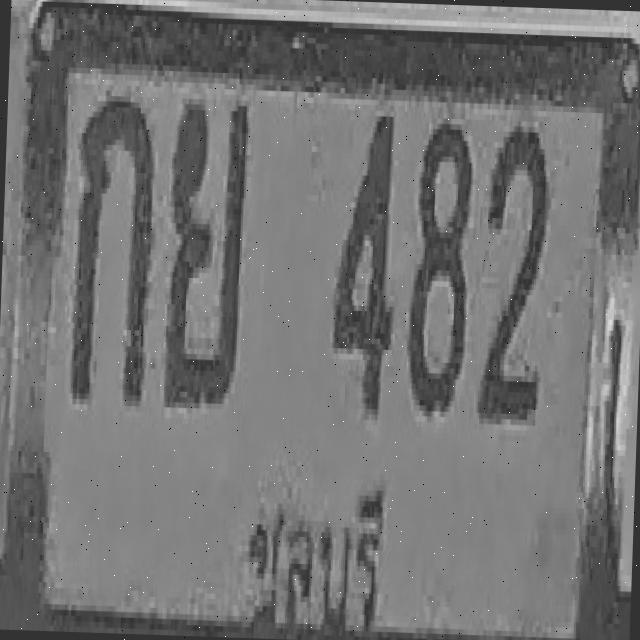10GorGai: (68, 92, 156, 403)
2: (476, 122, 550, 422)
4: (329, 110, 398, 414)
43YorYak: (162, 96, 250, 407)
8: (406, 120, 472, 414)
Chonburi: (238, 464, 396, 640)
